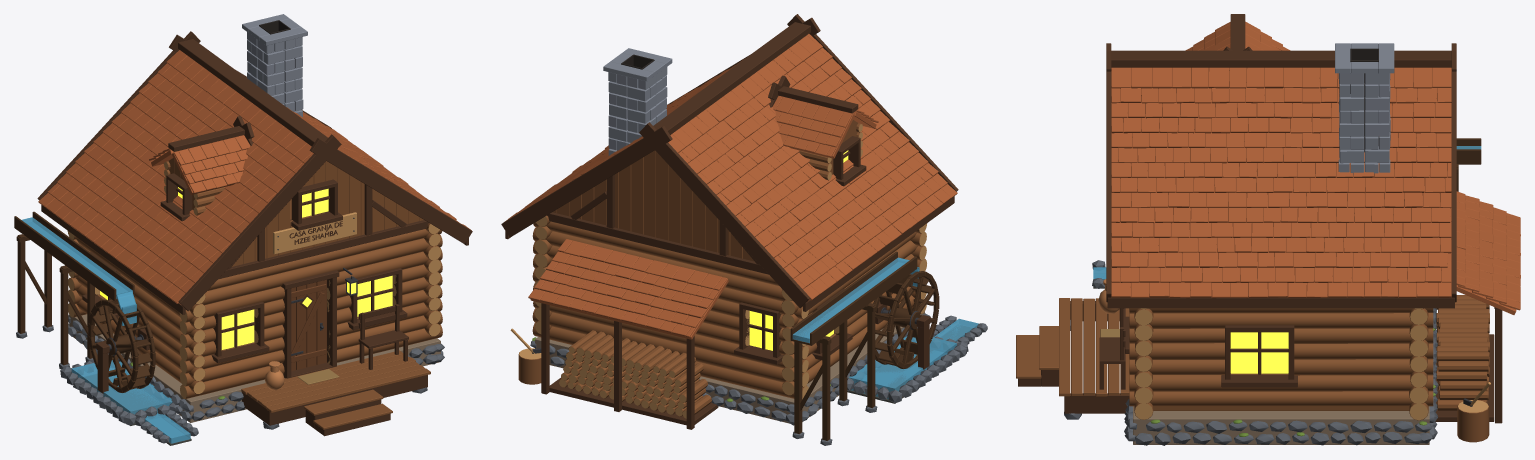
File: casa_granja.glb
3 views of the same model, side by side, from view 1: azimuth 30°, elevation 25°; view 2: azimuth 150°, elevation 25°; view 3: azimuth 270°, elevation 25° (orthographic). The views are drawn at different scales.
Parts seen in each view (by area): view 1: CasaGranja, AguaGranja, RuedaMolino; view 2: CasaGranja, RuedaMolino, AguaGranja; view 3: CasaGranja.
Boxes of the visible parts, <box> form: CasaGranja: <box>14,14,472,445</box>; AguaGranja: <box>22,217,190,443</box>; RuedaMolino: <box>88,299,155,392</box>; CasaGranja: <box>501,14,987,445</box>; RuedaMolino: <box>873,271,939,368</box>; AguaGranja: <box>792,257,978,399</box>; CasaGranja: <box>1016,14,1520,445</box>.
Bounding box in the file's own units: 6.43 × 5.34 × 6.97.
